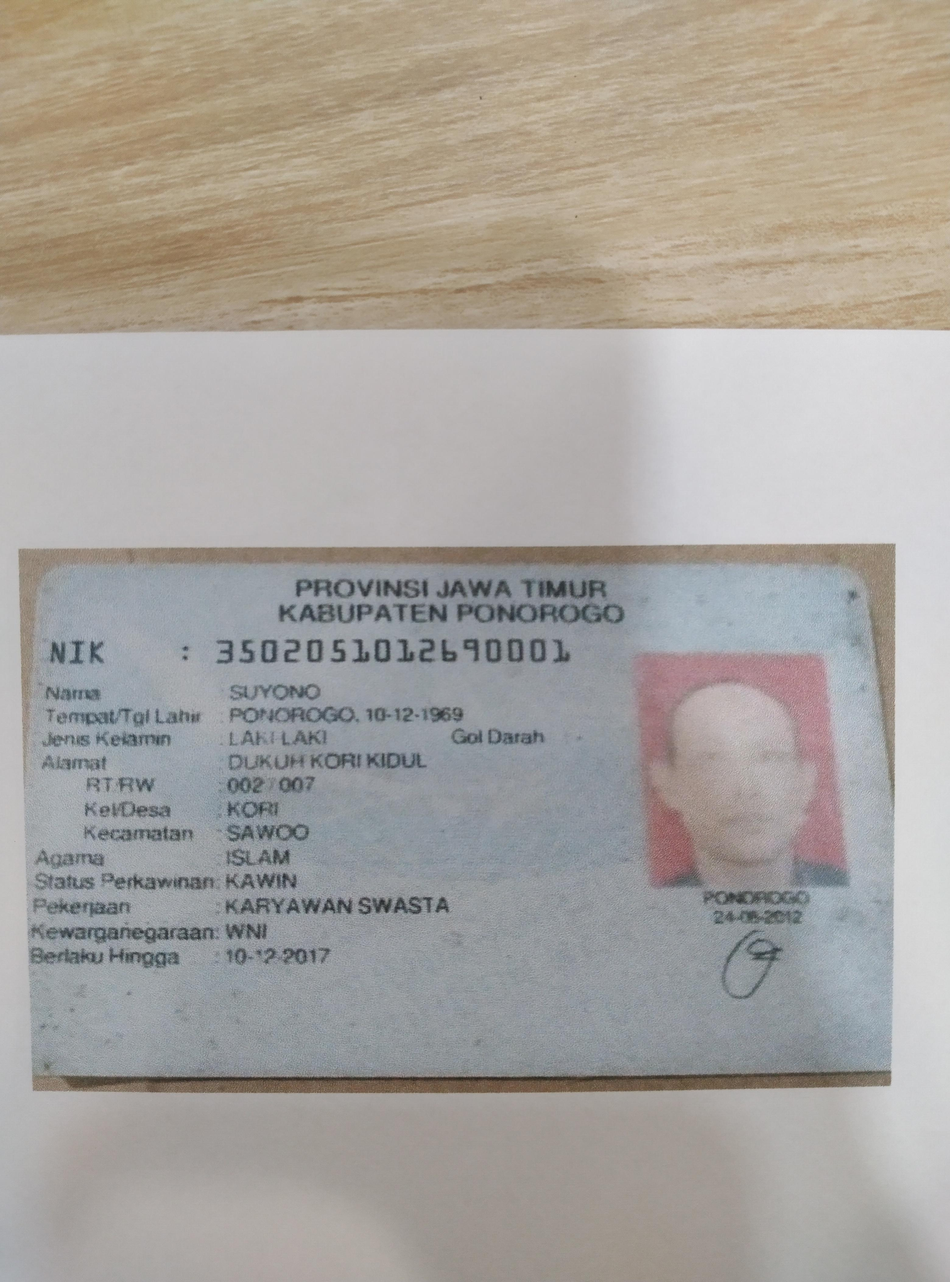ktp: (25, 569, 886, 1062)
